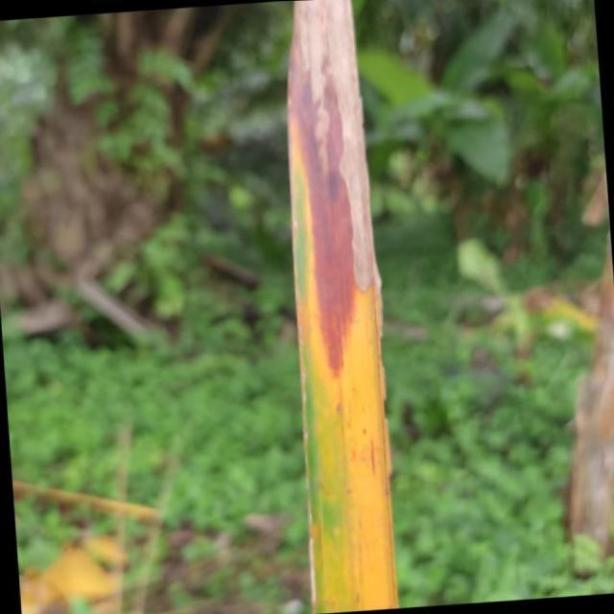Megnesium: (291, 0, 397, 614)
